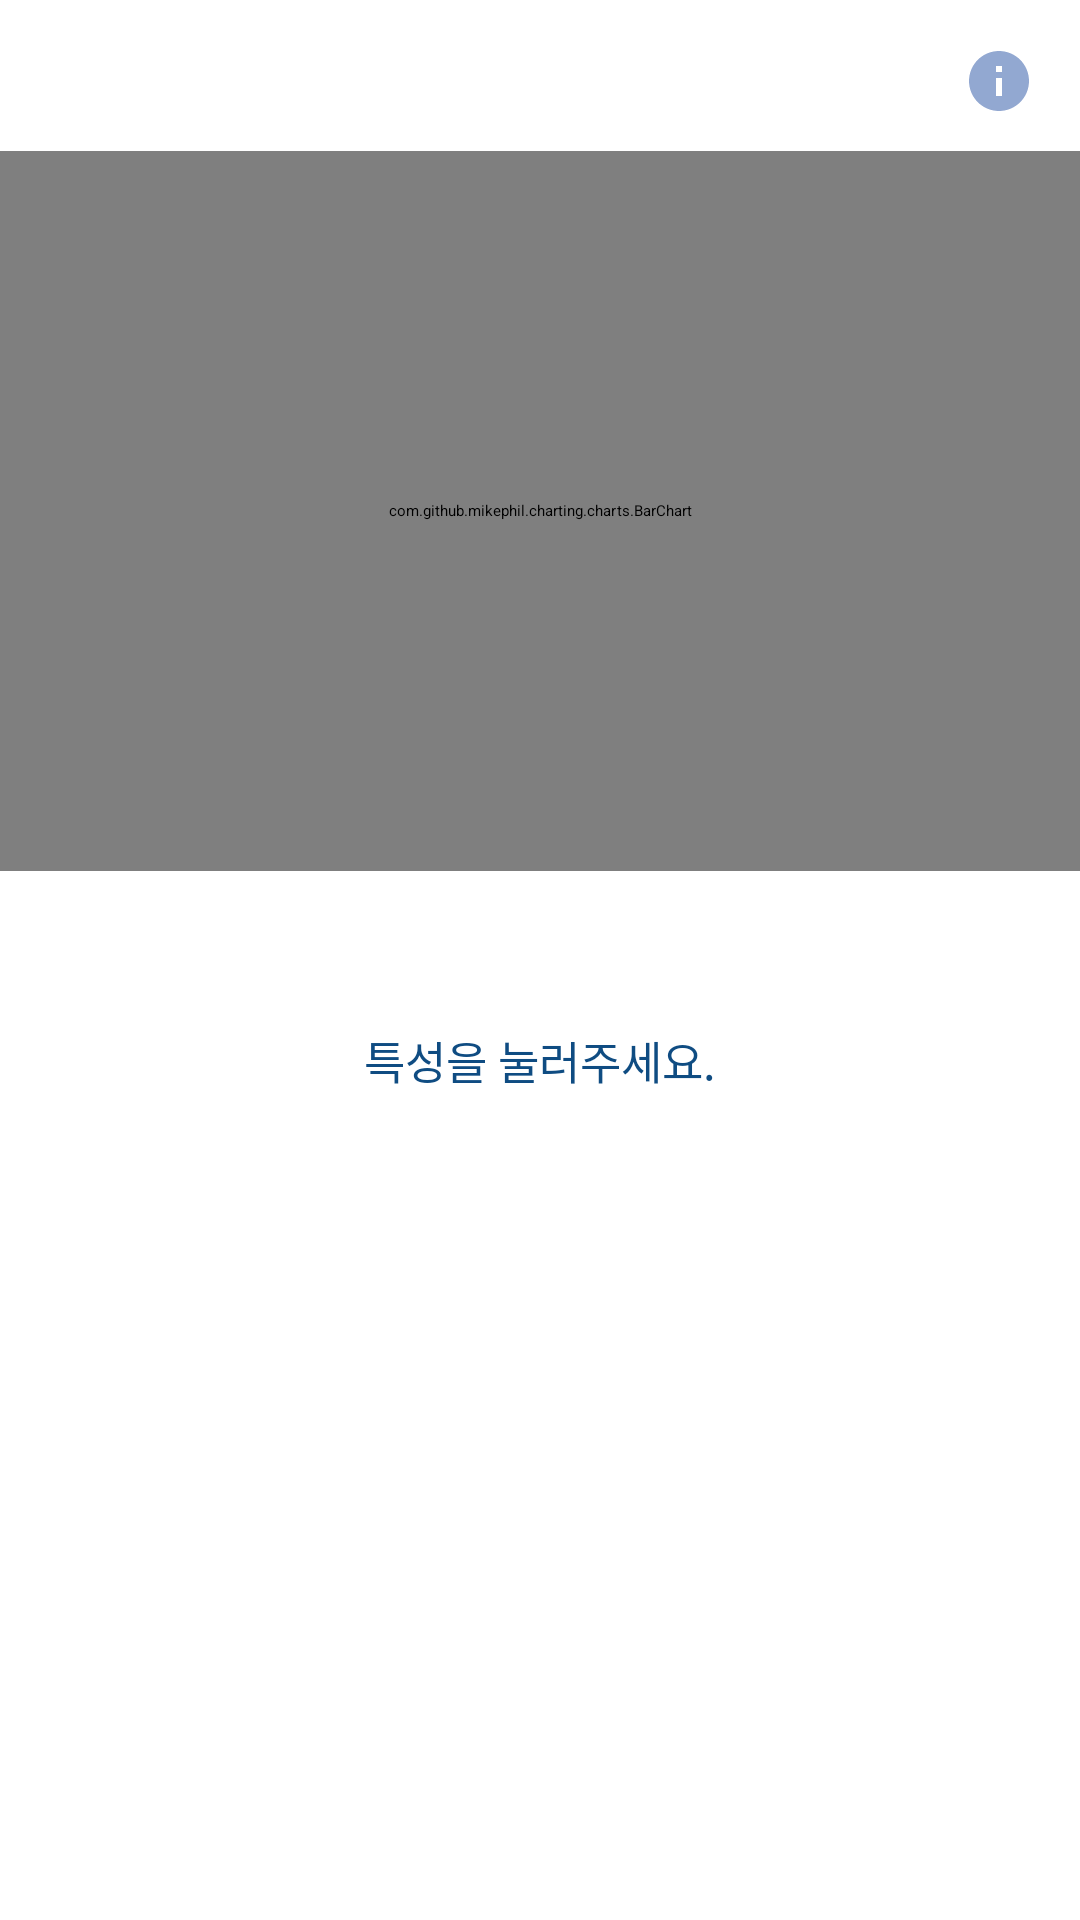

Point at icon controls on the screen. Image size 1080 × 1920, points as [x,y].
info: [999,81]
